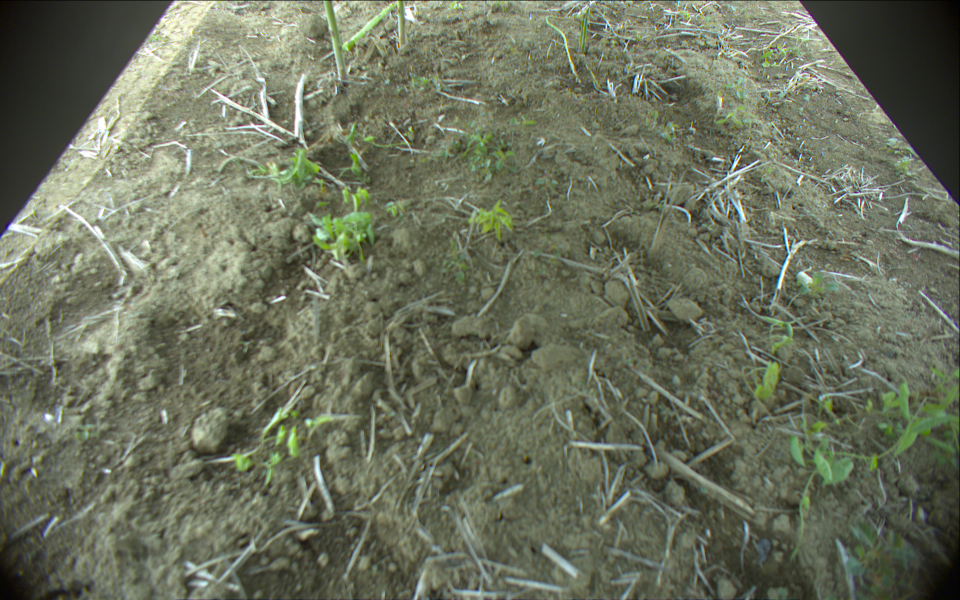aspa: (544, 14, 585, 82), (342, 1, 397, 51), (321, 1, 352, 81), (577, 5, 596, 54), (397, 1, 406, 47)
